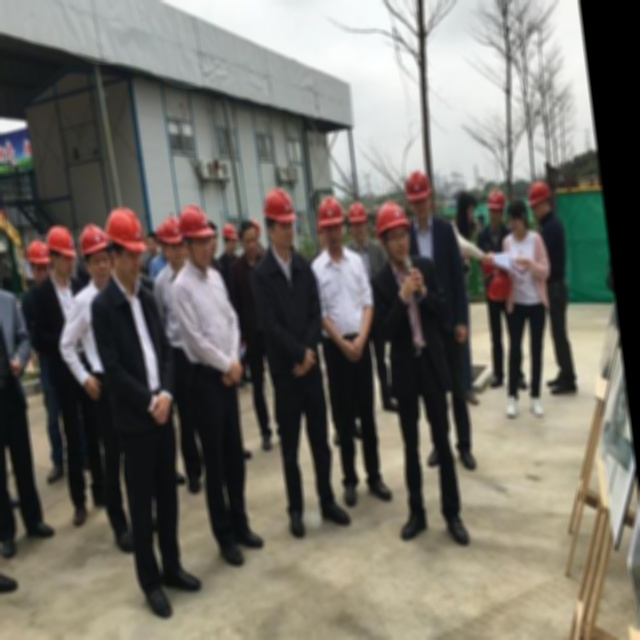Con_Casco: (261, 186, 299, 251), (316, 196, 347, 254), (404, 169, 434, 219)
Sin_Casco_Mascarrilla: (505, 198, 530, 236)
